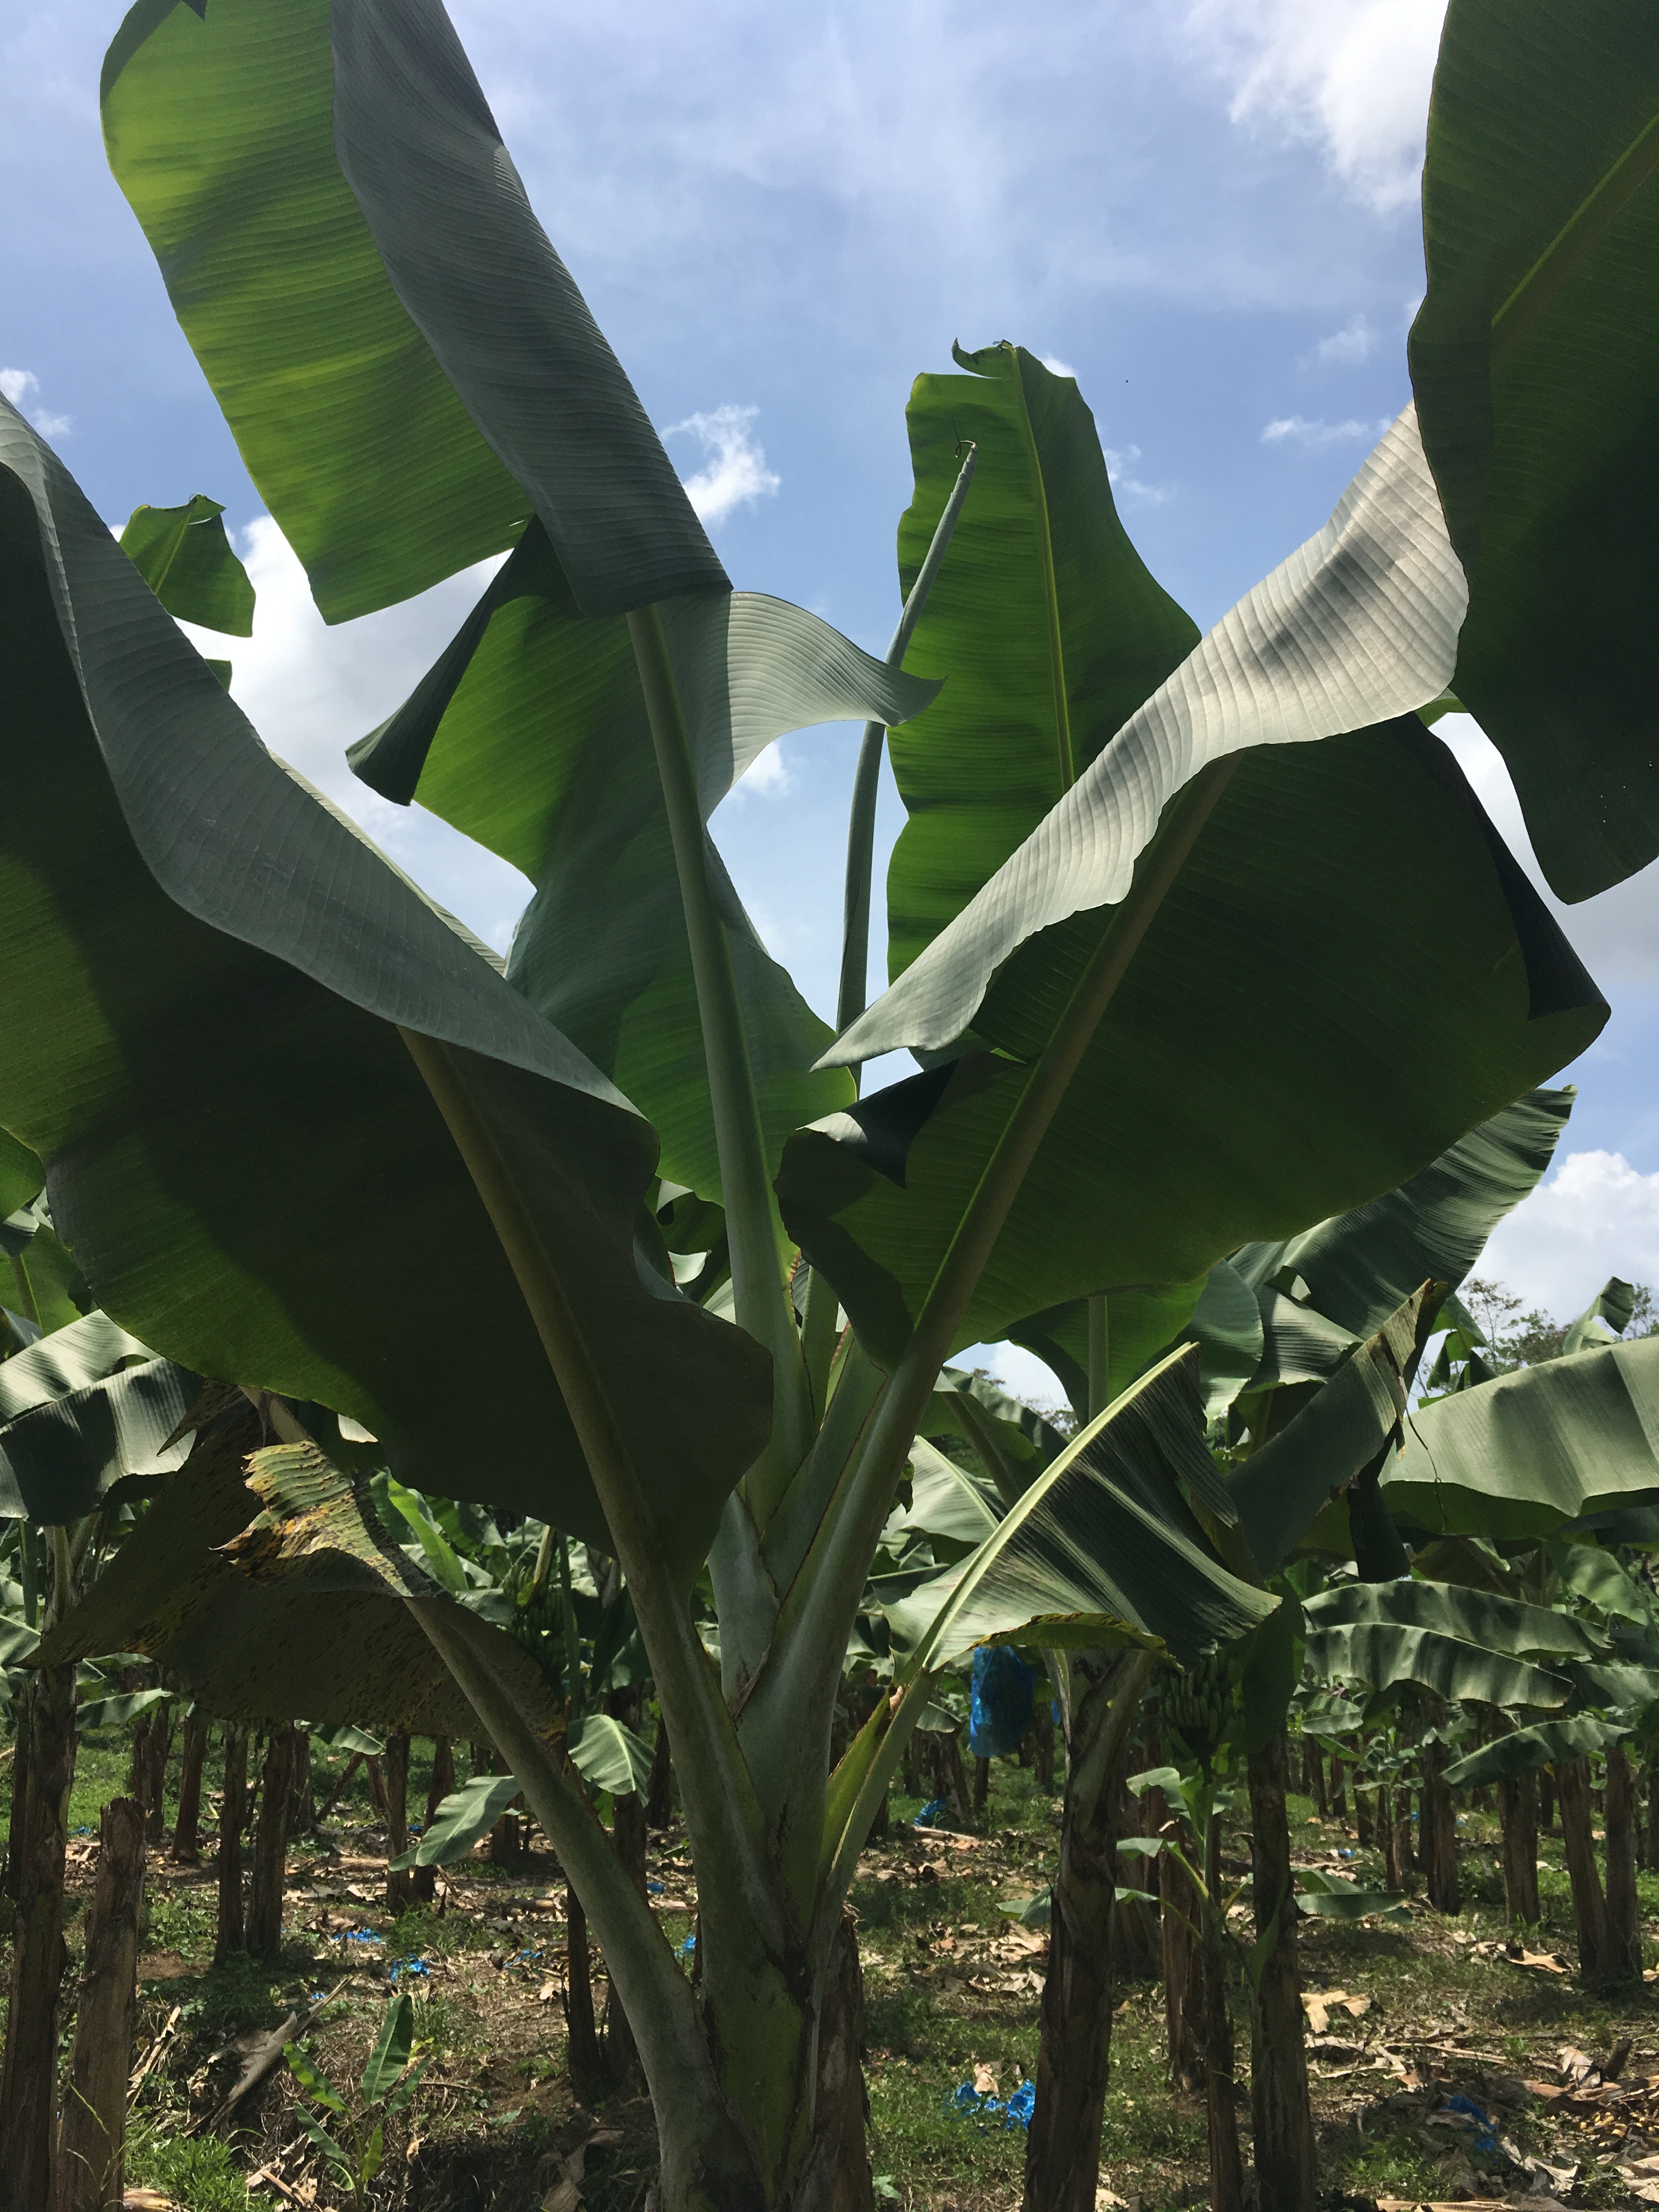candleleafs: (826, 442, 985, 989)
